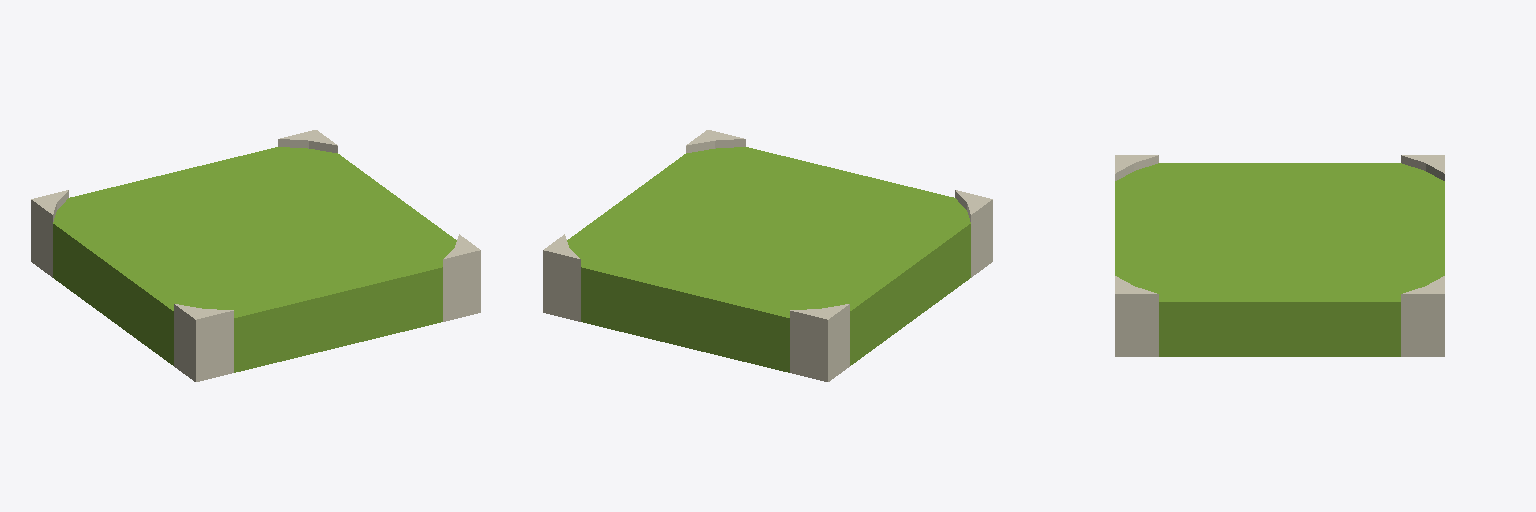
Rendered from tile092.obj.
The picture shows the model from 3 angles: view 1: azimuth 30°, elevation 25°; view 2: azimuth 150°, elevation 25°; view 3: azimuth 270°, elevation 25°; orthographic projection.
Parts seen in each view (by area): view 1: tile092; view 2: tile092; view 3: tile092.
Part boxes in pixels (x1,y1,x2,y2): tile092: (31, 130, 480, 381); tile092: (543, 130, 992, 381); tile092: (1115, 155, 1444, 356).
Size of the model in its own units: 1 by 0.21 by 1.